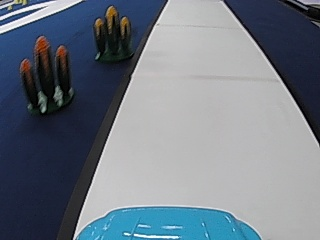corn: (21, 34, 75, 115), (91, 4, 133, 63)
